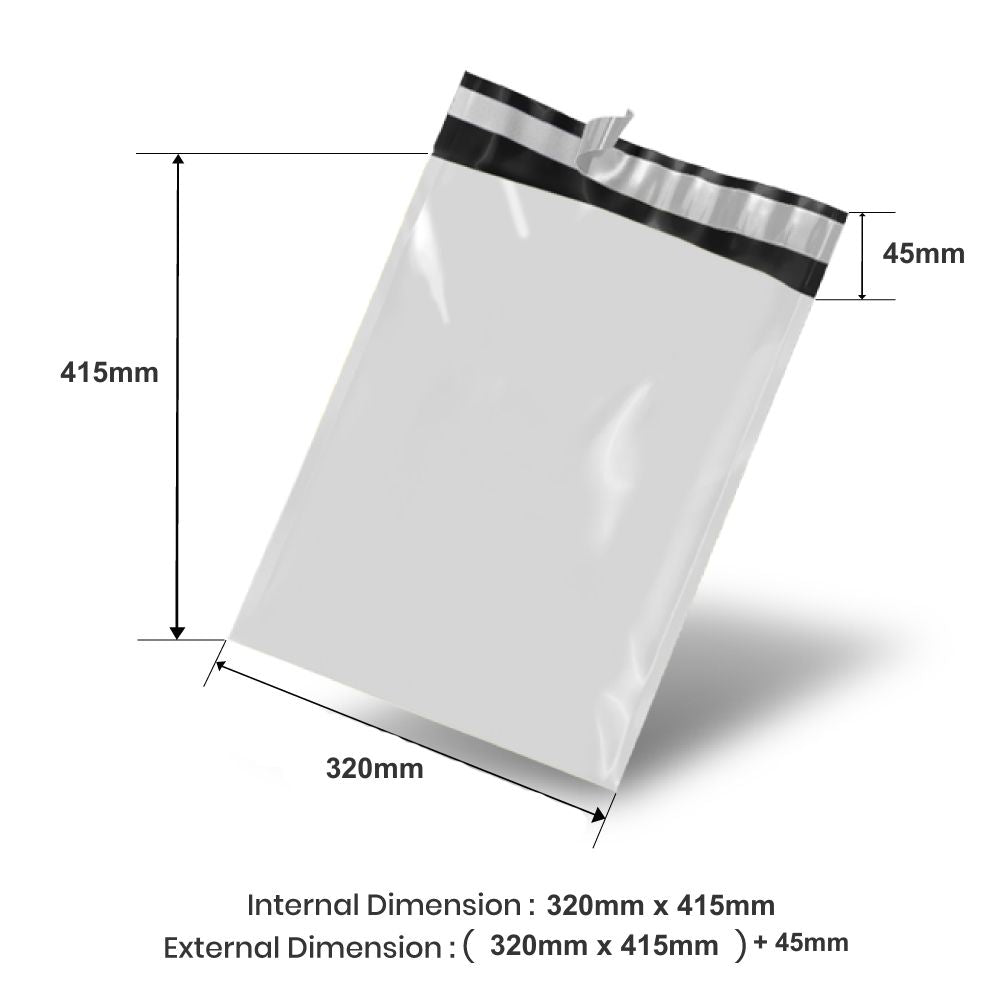塑料袋: (219, 72, 846, 843)
